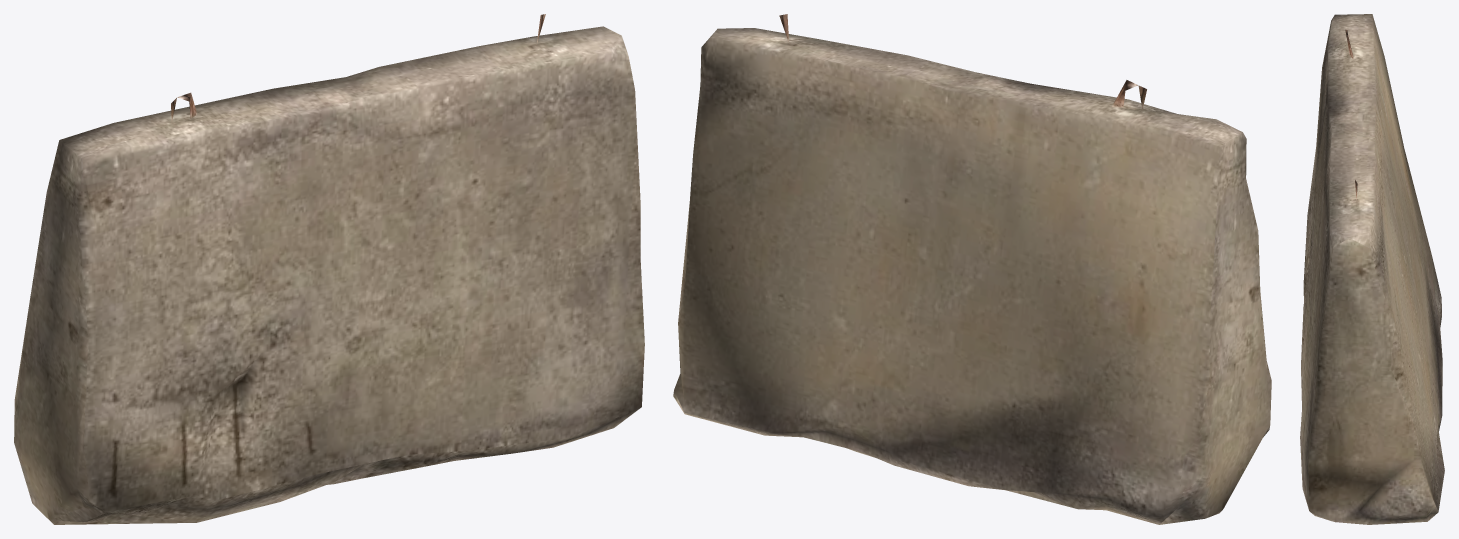
File: p_barrier.glb
3 views of the same model, side by side, from view 1: azimuth 30°, elevation 25°; view 2: azimuth 150°, elevation 25°; view 3: azimuth 270°, elevation 25° (orthographic). The views are drawn at different scales.
Visible parts, largest first — view 1: concrete_road_barrier_02; view 2: concrete_road_barrier_02; view 3: concrete_road_barrier_02.
Boxes of the visible parts, x1,y1,x2,y2 form: concrete_road_barrier_02: (14, 14, 644, 524); concrete_road_barrier_02: (673, 14, 1271, 524); concrete_road_barrier_02: (1300, 14, 1444, 524).
Size of the model in its own units: 1.56 by 1.1 by 0.4369.
1 material, 1 textured.
